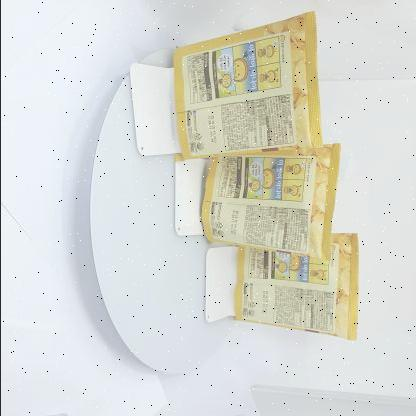Others: (163, 7, 365, 352)
